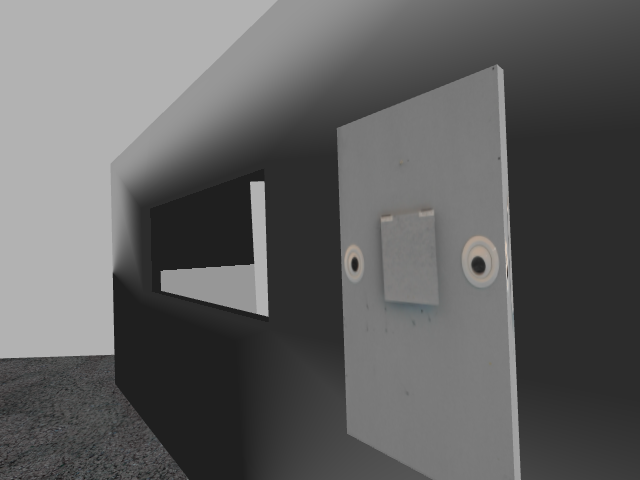facade: (341, 207, 502, 308)
